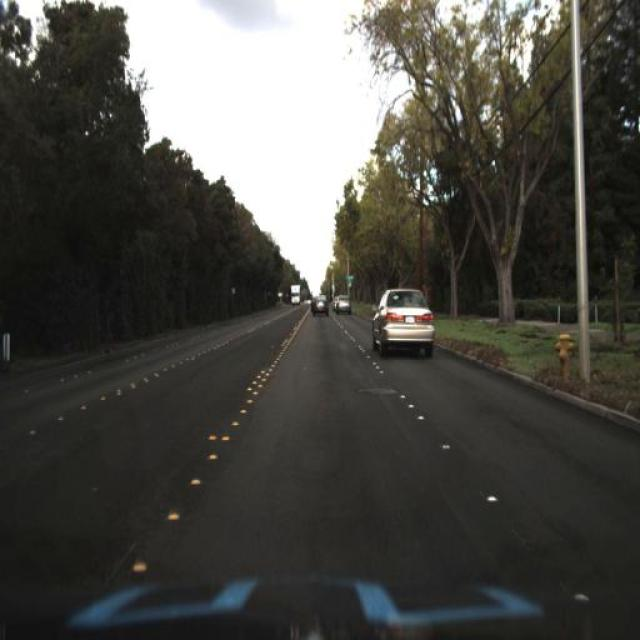car: (369, 290, 439, 359), (332, 288, 358, 318), (310, 292, 330, 323), (333, 298, 353, 318)
